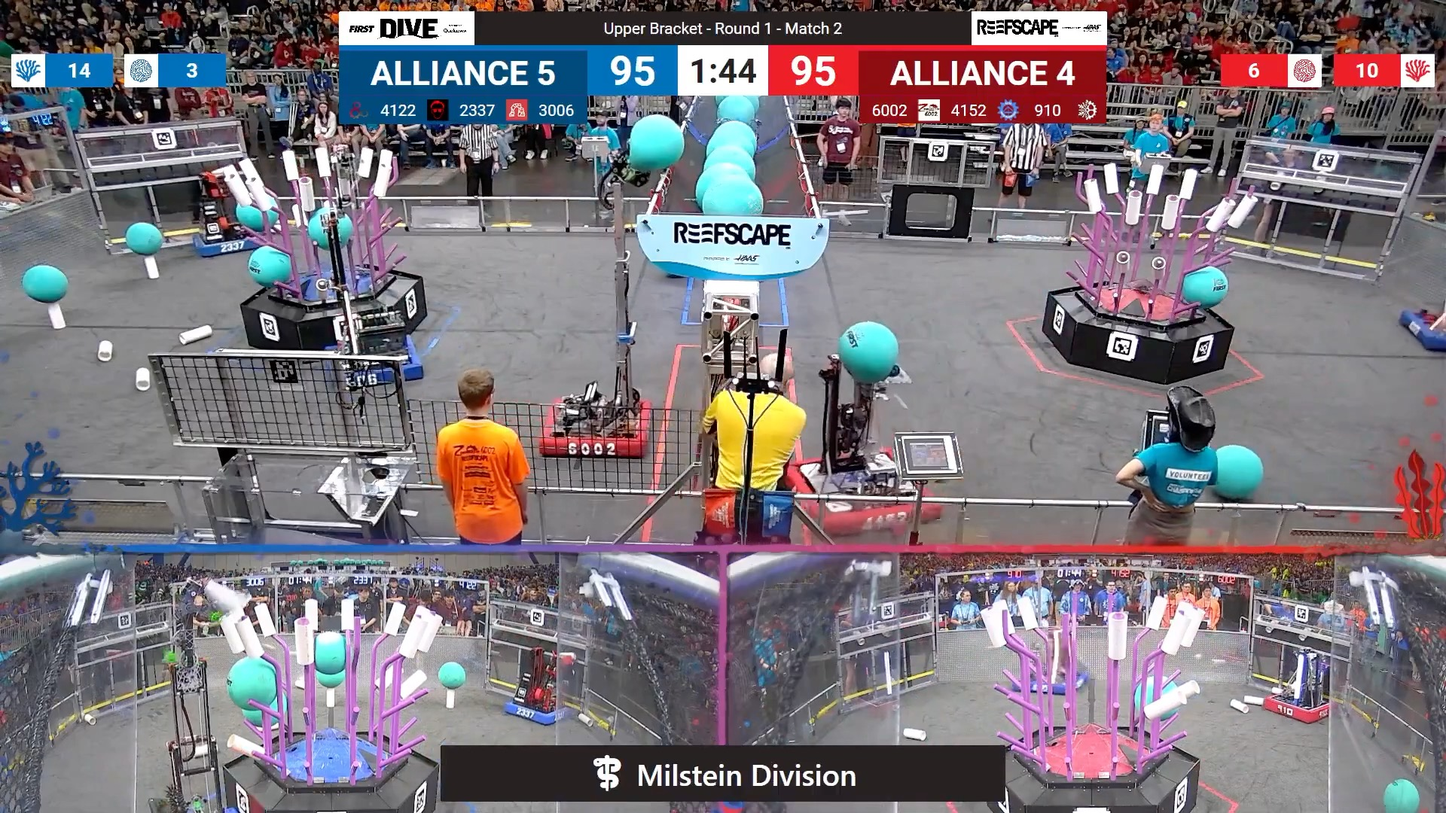bumpers: (783, 462, 938, 538), (537, 394, 658, 461), (316, 336, 426, 387), (185, 223, 273, 262), (1254, 691, 1341, 726), (1391, 304, 1445, 358), (499, 695, 575, 729)
